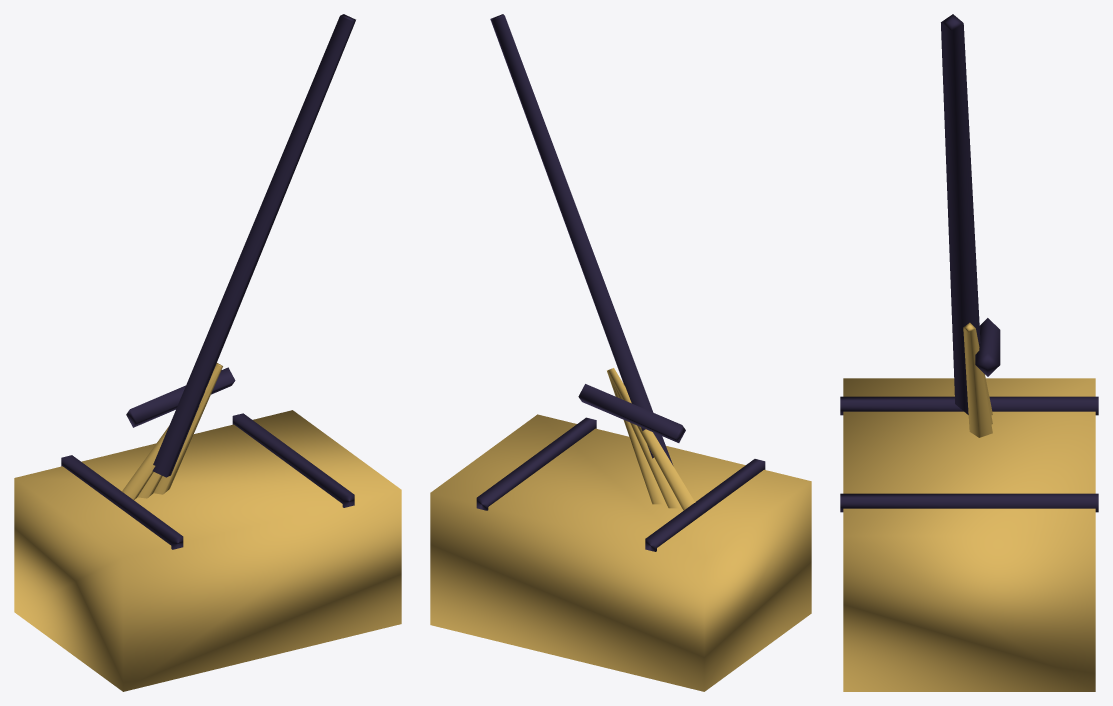
Rendered from broom_hay_low.glb.
3 renders of one model, left to right at view 1: azimuth 30°, elevation 25°; view 2: azimuth 150°, elevation 25°; view 3: azimuth 270°, elevation 25°, orthographic. The views are drawn at different scales.
Size of the model in its own units: 0.6532 by 1.29 by 0.45.
